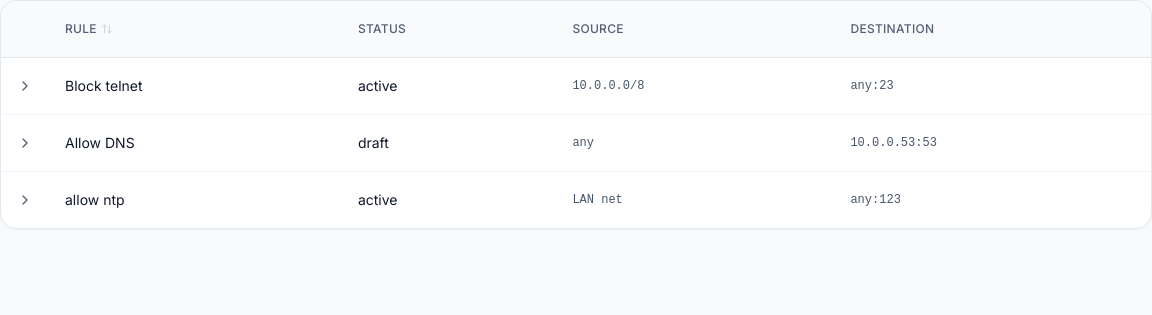
Test: DataTable on a tablet › shows primary and high columns and puts the others behind a details toggle
Expected: the column heading does not show "Last hit"
Expected: the column heading does not show "Note"
Click the button named "common.showDetails" next to "Block telnet". click: [25, 86]
box: x1=9 y1=70 x2=41 y2=102
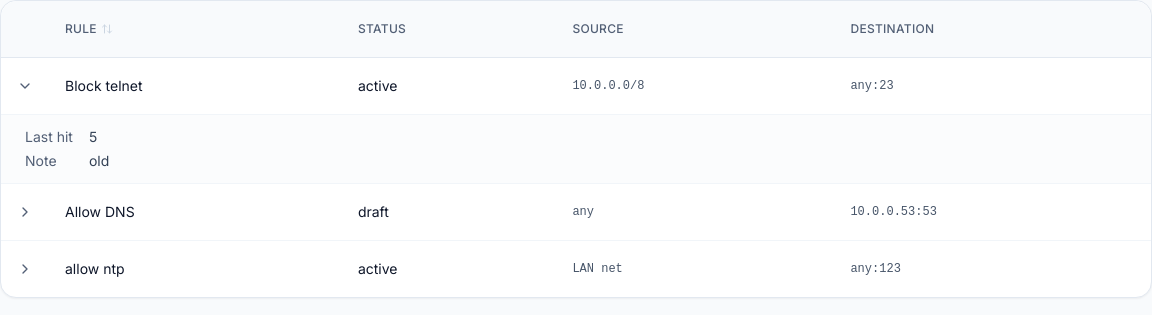
Expected: the button named "common.showDetails" is expanded, x1=9 y1=70 x2=41 y2=102
Expected: the text "Last hit" is shown, x1=25 y1=127 x2=73 y2=147
Expected: the text "Note" is shown, x1=25 y1=152 x2=57 y2=169
